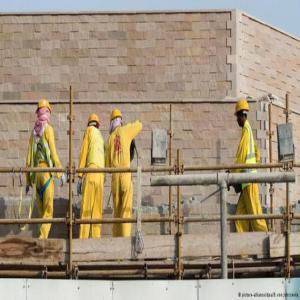yellow: (236, 98, 250, 128), (37, 99, 52, 124), (111, 110, 124, 129), (88, 115, 100, 131)
